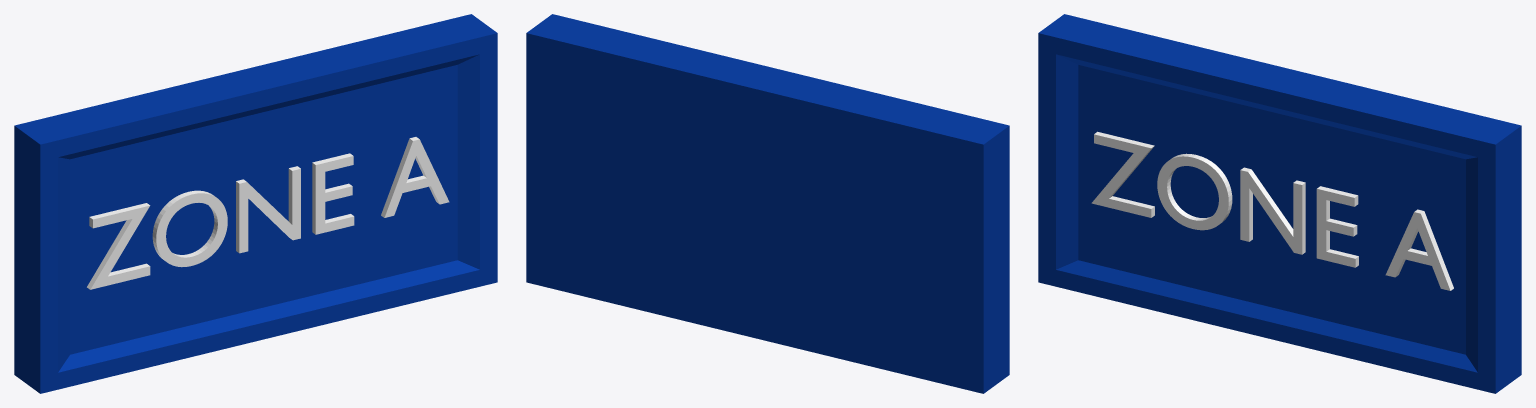
Rendered from ZoneA Panel.fbx.
3 views of the same model, side by side, from view 1: azimuth 30°, elevation 25°; view 2: azimuth 150°, elevation 25°; view 3: azimuth 330°, elevation 25° (orthographic).
Visible parts, largest first — view 1: Cube; view 2: Cube; view 3: Cube.
Boxes of the visible parts, x1=… form: Cube: x1=14, y1=14, x2=497, y2=393; Cube: x1=526, y1=14, x2=1009, y2=393; Cube: x1=1038, y1=14, x2=1521, y2=393.
Size of the model in its own units: 277 by 144 by 27.36.
